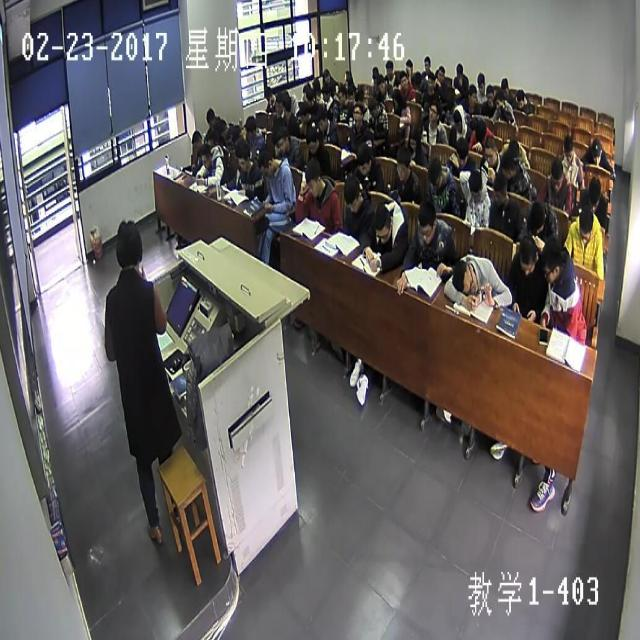no_helmet: (113, 215, 144, 270), (452, 254, 479, 298), (541, 237, 560, 281), (418, 200, 437, 243), (343, 175, 362, 215), (373, 202, 391, 244), (304, 157, 322, 195), (578, 202, 594, 244), (519, 236, 536, 274), (426, 156, 444, 191), (530, 200, 546, 237), (492, 170, 508, 207), (234, 135, 251, 168), (354, 140, 371, 173), (550, 156, 564, 195), (396, 145, 412, 179), (588, 173, 602, 210), (258, 146, 274, 177), (468, 169, 482, 204), (501, 148, 517, 178), (454, 135, 468, 166), (273, 125, 288, 153), (305, 125, 320, 153), (483, 137, 497, 166), (451, 105, 465, 132), (562, 134, 574, 163), (426, 100, 439, 126), (474, 119, 486, 146), (200, 141, 211, 170), (408, 122, 419, 151), (205, 104, 218, 128), (316, 109, 329, 133), (298, 100, 310, 125), (244, 114, 256, 138), (591, 138, 601, 166), (351, 105, 363, 128), (392, 88, 404, 111), (493, 89, 504, 113), (280, 90, 290, 116), (507, 140, 520, 160), (464, 84, 476, 105), (206, 128, 218, 148), (475, 70, 485, 94), (191, 125, 201, 148), (218, 115, 228, 137), (355, 89, 366, 109), (343, 67, 353, 88), (369, 95, 379, 116), (376, 74, 386, 94), (484, 84, 493, 106), (515, 88, 524, 109), (320, 82, 330, 100), (337, 84, 346, 104), (447, 96, 456, 116), (274, 92, 282, 114), (399, 70, 408, 89), (384, 57, 392, 78), (311, 77, 320, 95), (413, 70, 422, 88), (455, 60, 463, 80), (263, 85, 272, 102), (301, 82, 309, 101), (321, 68, 331, 83), (304, 87, 312, 105), (426, 74, 434, 92), (500, 75, 508, 93), (423, 53, 431, 70), (371, 67, 379, 83), (436, 65, 444, 81), (405, 58, 412, 76)
